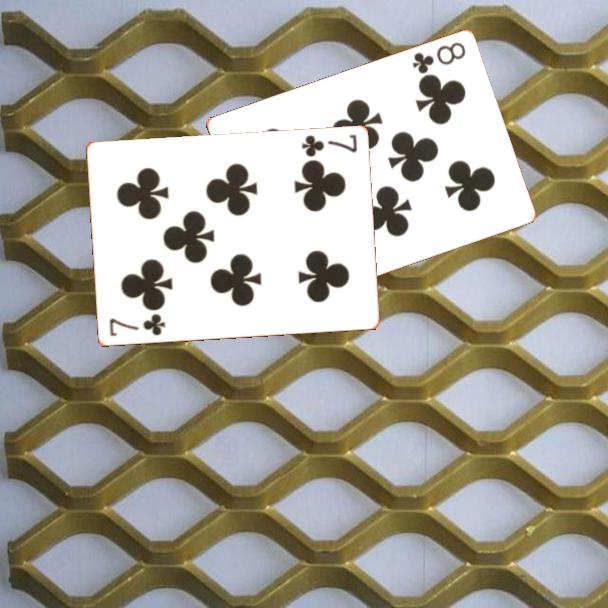c07: (298, 131, 360, 160), (105, 311, 168, 339)
c08: (409, 39, 468, 77)
